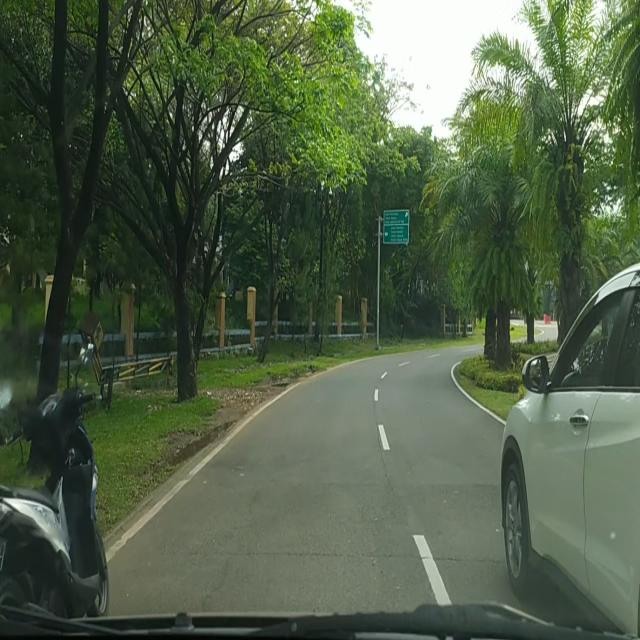Sewer Cover: (212, 550, 502, 564)
